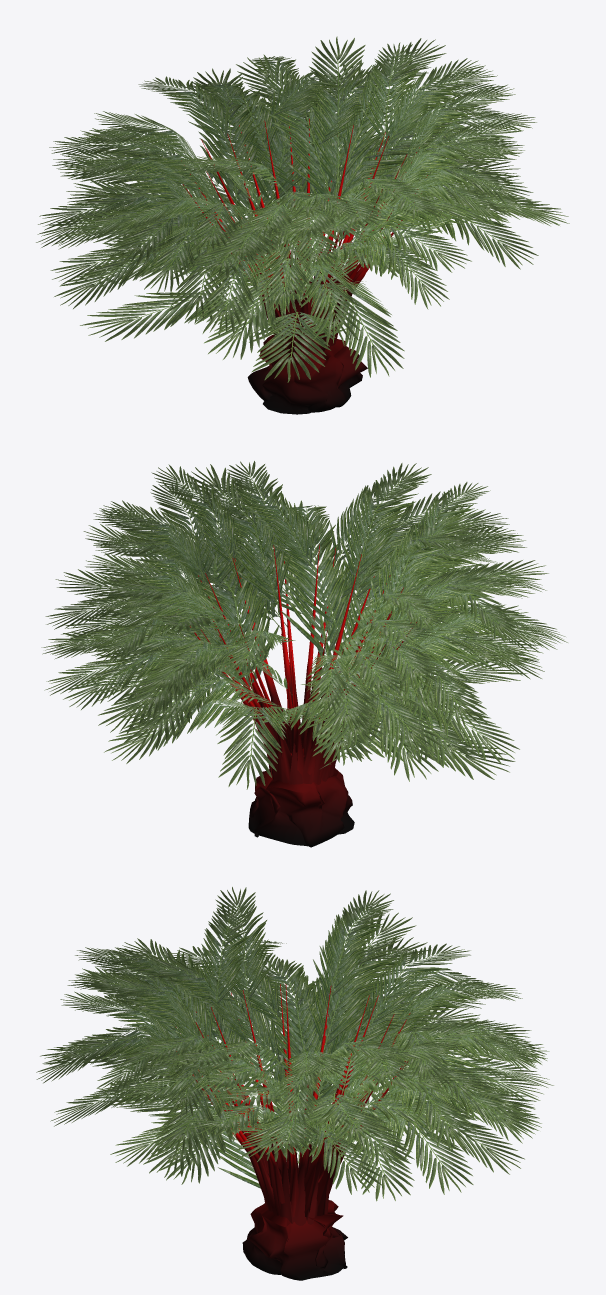
The model's file is Palm_3_5.fbx.
3 renders of one model, top to bottom at view 1: azimuth 30°, elevation 25°; view 2: azimuth 150°, elevation 25°; view 3: azimuth 270°, elevation 25°, orthographic.
Parts seen in each view (by area): view 1: Palm_3_5; view 2: Palm_3_5; view 3: Palm_3_5.
Boxes of the visible parts, bbox=[...] form: Palm_3_5: bbox=[36, 36, 569, 414]; Palm_3_5: bbox=[41, 461, 567, 847]; Palm_3_5: bbox=[36, 887, 553, 1280].
Bounding box in the file's own units: 4389 × 2422 × 4381.
